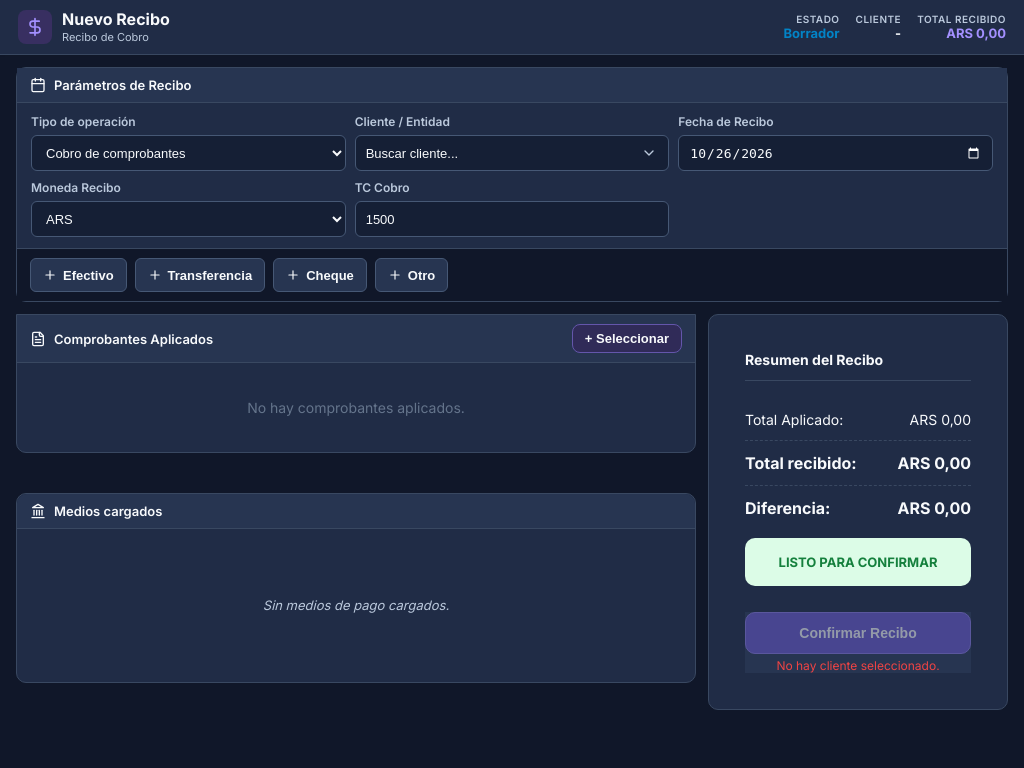
Test case: Carga por lote de cheques › el botón Cheque de Recibos incorpora dos cheques en una sola operación
Expected: the heading "Parámetros de Recibo" is shown, [30,77,192,93]
Click the button "Cheque". click: (320, 275)
box: [273,258,367,292]
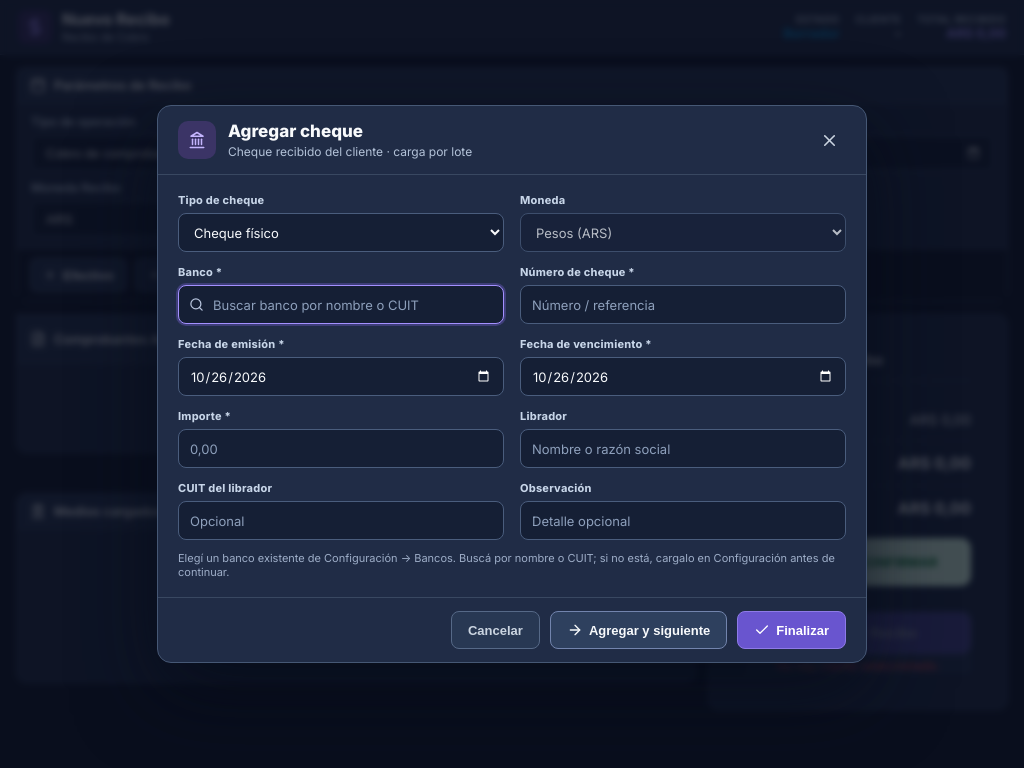
Expected: the dialog "Agregar cheque" is shown, [157,105,867,663]
Type "Banco Entre Ríos" into the field labelled "Buscar banco por nombre o CUIT". click: (341, 304)
box: [178,285,504,324]
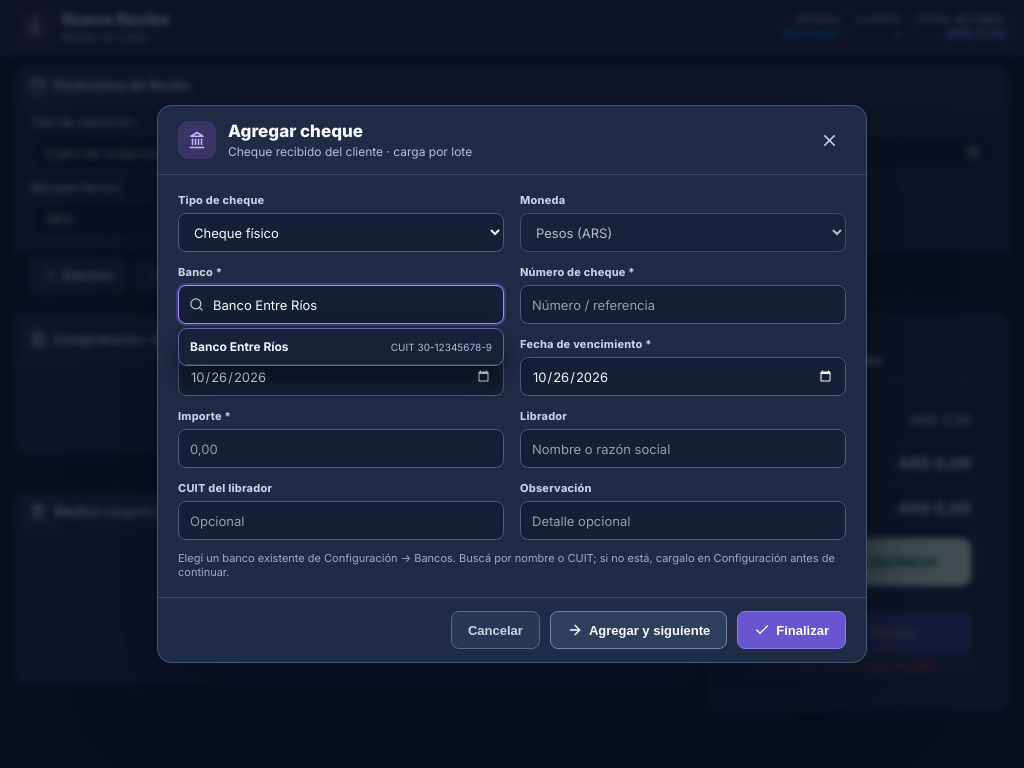
Type "CH-200" into the field with placeholder "Número / referencia". click: (683, 304)
box: [520,285,846,324]
Type "10000" into the number field with placeholder "0,00". click: (341, 448)
box: [178,429,504,468]
Click the button "Agregar y siguiente". click: (639, 630)
box: [550,611,727,649]
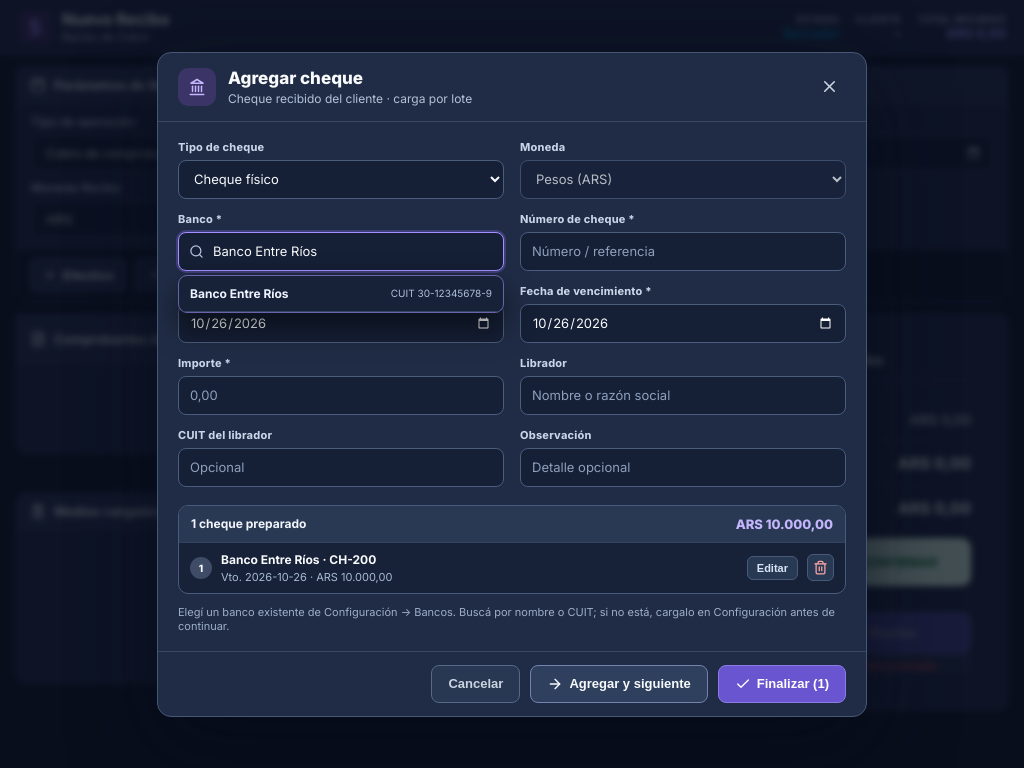
Type "CH-201" into the field with placeholder "Número / referencia". click: (683, 251)
box: [520,232,846,270]
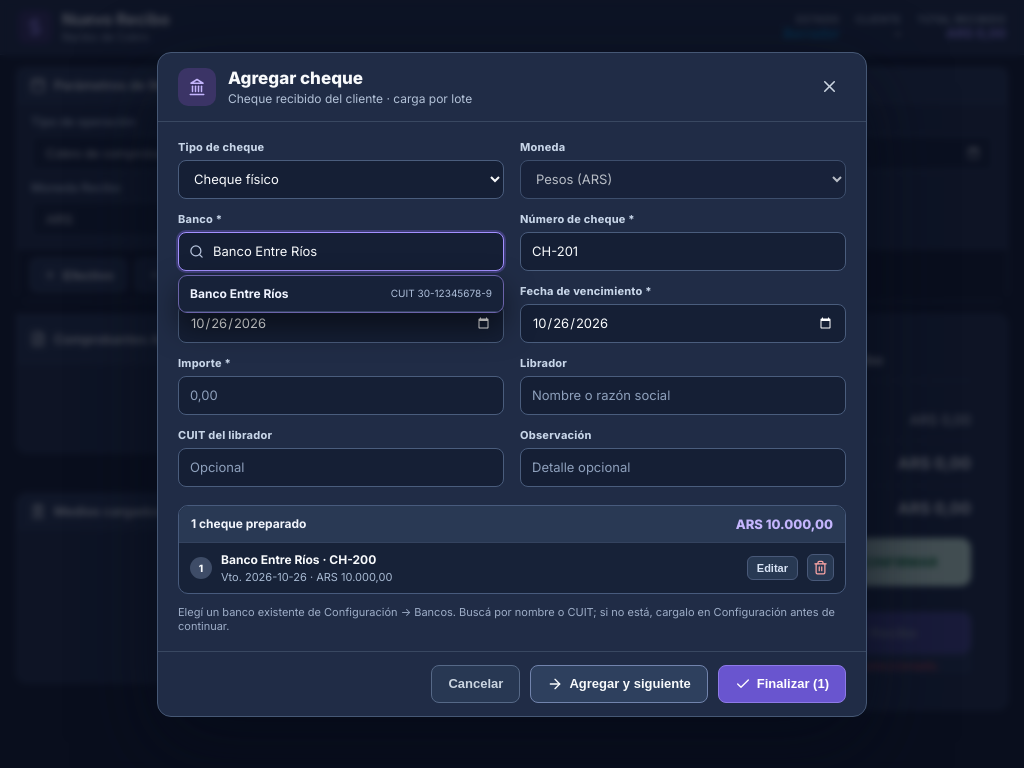
Type "12000" into the number field with placeholder "0,00". click: (341, 395)
box: [178,376,504,414]
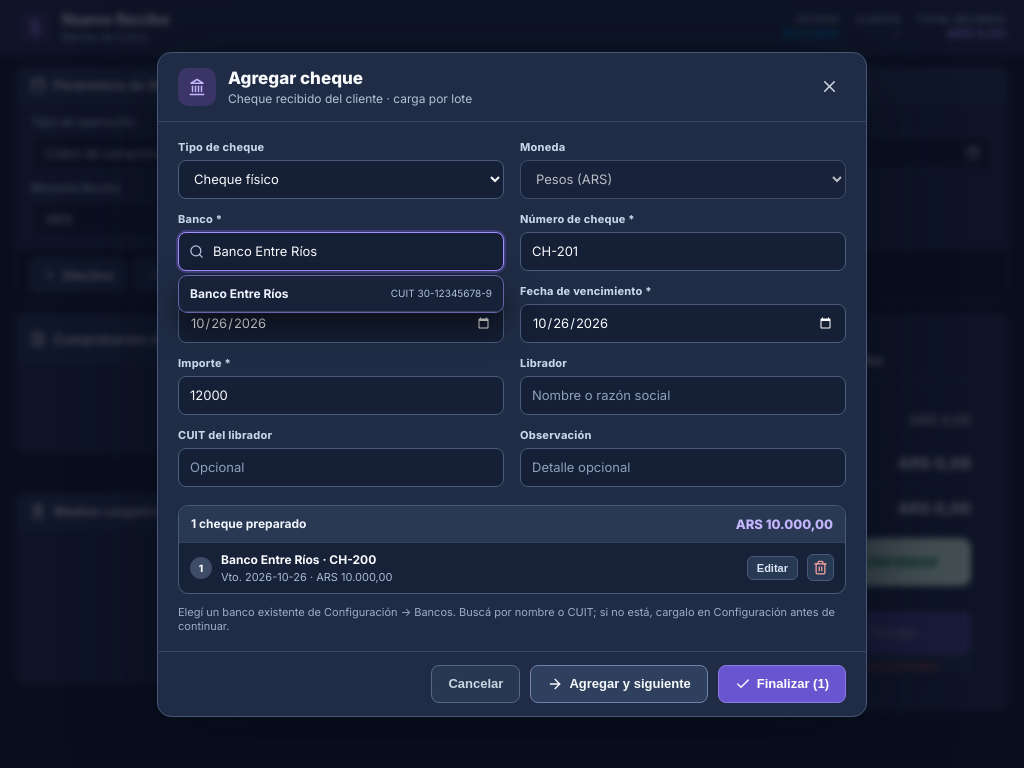
Click the button "Finalizar (1)". click: (782, 684)
box: [718,664,846,702]
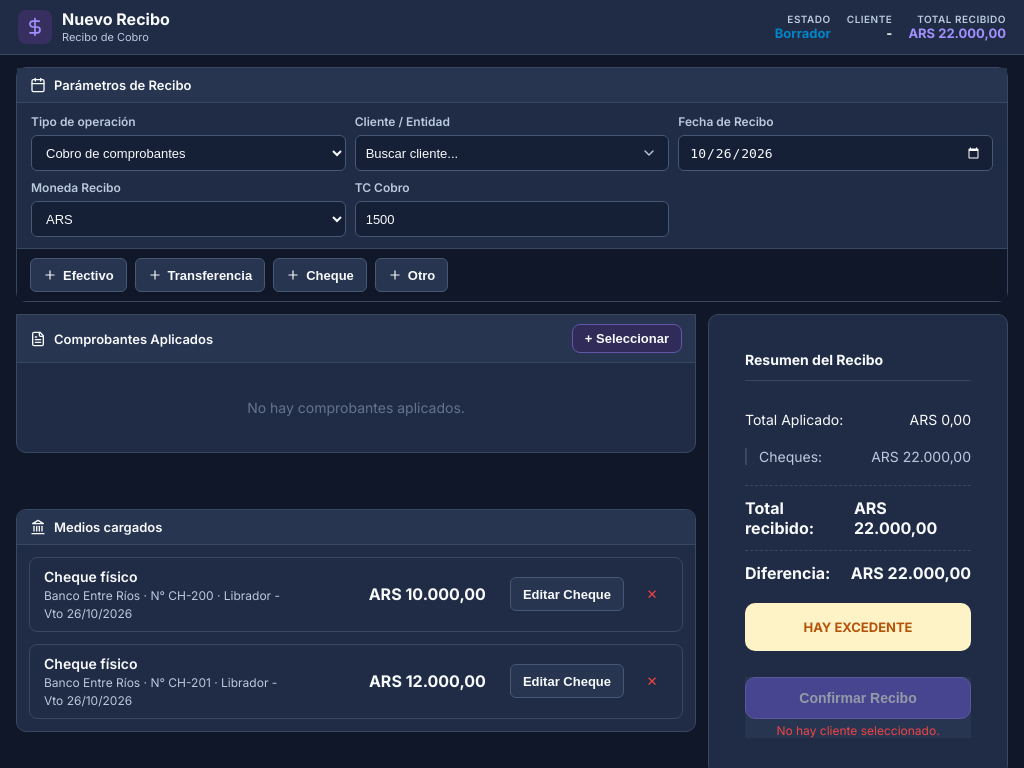
Expected: the dialog is gone
Expected: the text "Banco Entre Ríos · N° CH-200 · Librador -" is shown, [44,588,280,602]
Expected: the text "Banco Entre Ríos · N° CH-201 · Librador -" is shown, [44,674,277,690]
